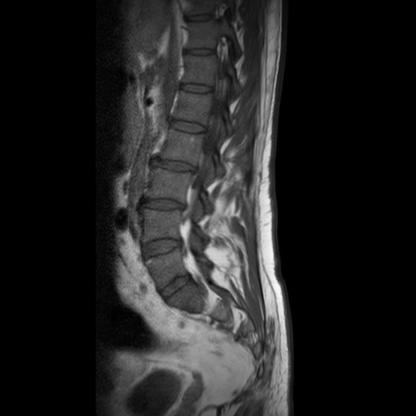Degenerative Disc Diseaserotation: (141, 197, 187, 215), (153, 157, 198, 175)
Disc Bulgerotation: (153, 157, 198, 175), (143, 238, 182, 258), (142, 197, 187, 214)
